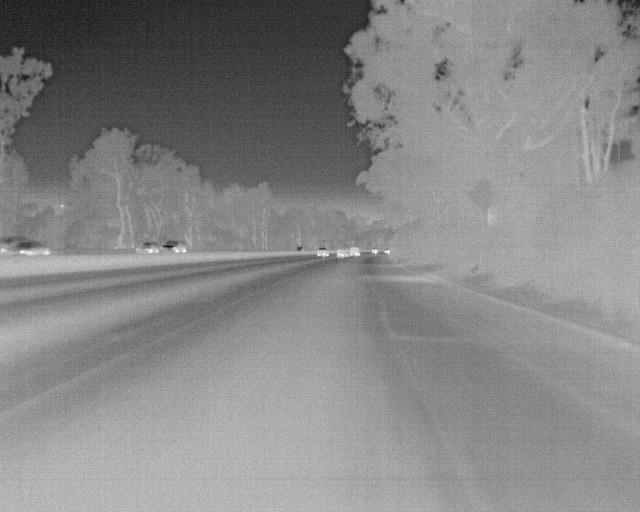car: (11, 242, 49, 256), (138, 238, 167, 255), (160, 238, 188, 252), (311, 242, 329, 258), (348, 242, 362, 258), (336, 248, 353, 261)
